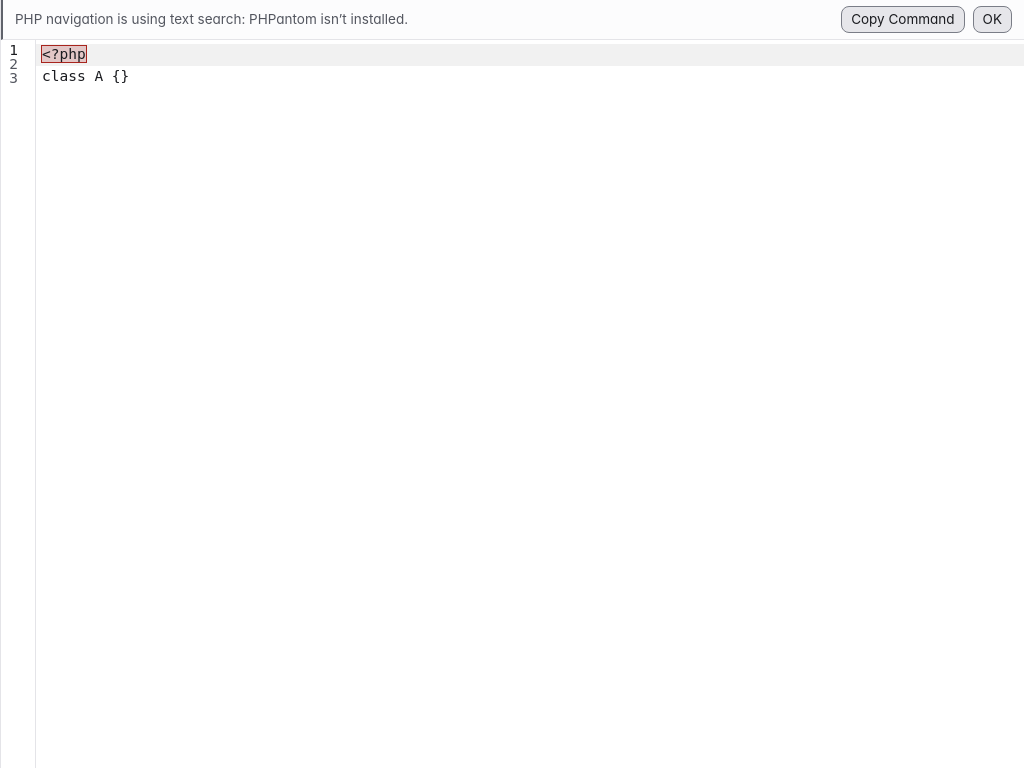
Test: FileEditor: what it says about PHPantom › Copy Command copies the build command and says it did
Click the button "Copy Command" at (903, 19), box left=841, top=6, right=965, bottom=33
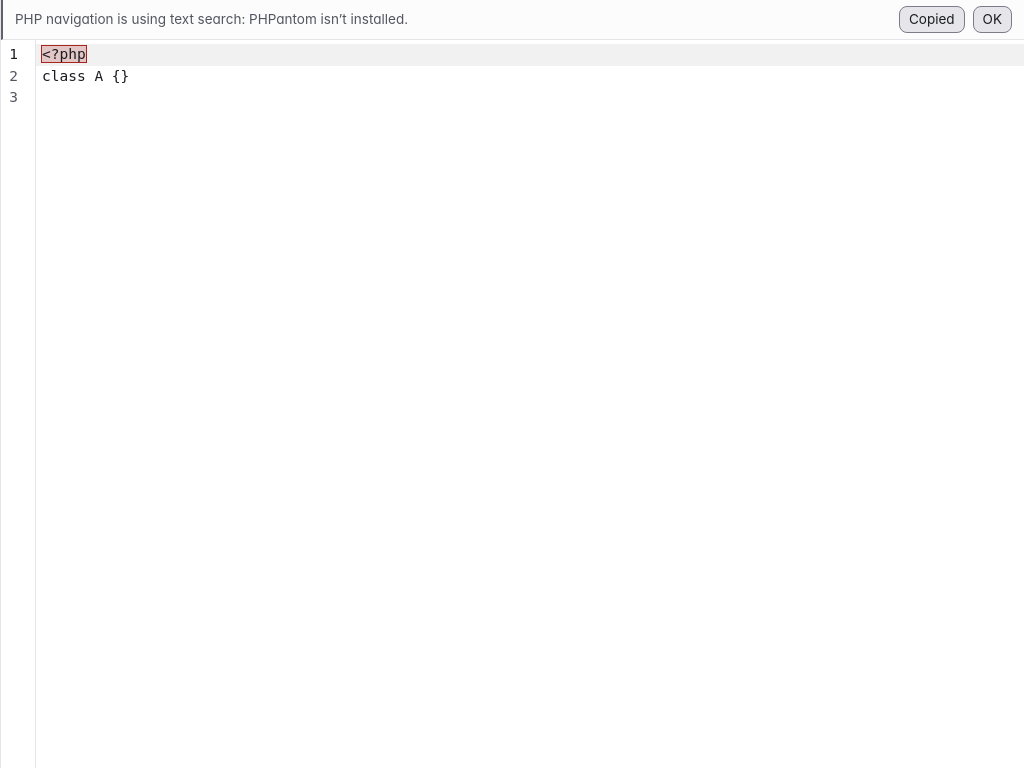
Expected: the text "using text search: PHPantom isn’t installed" is shown, left=15, top=11, right=408, bottom=27
Result: the button "Copied" is shown at left=899, top=6, right=965, bottom=33
